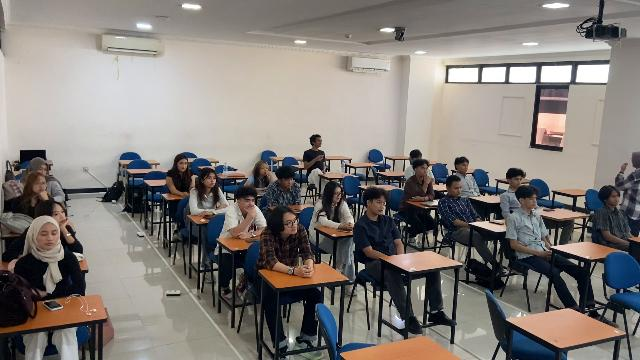fokus: (37, 225, 59, 248), (52, 205, 67, 225), (283, 214, 298, 233), (374, 194, 386, 215), (33, 176, 46, 193), (242, 196, 255, 212), (608, 190, 620, 206), (527, 193, 537, 209), (205, 174, 216, 188), (178, 159, 188, 172), (452, 183, 462, 196), (333, 188, 341, 203), (512, 175, 522, 187), (260, 163, 269, 176), (419, 164, 428, 177), (283, 177, 292, 189), (38, 165, 47, 175), (460, 162, 468, 173)
